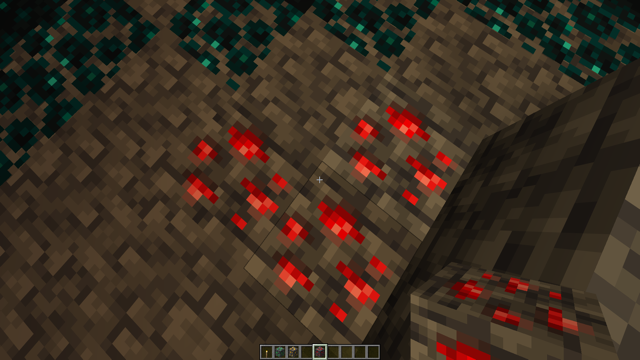redstone: (186, 91, 459, 343)
